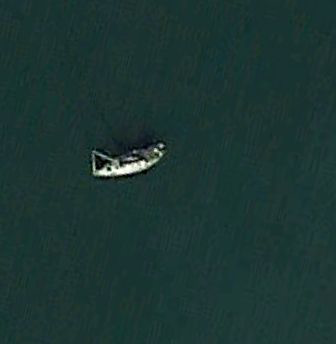boat: (91, 140, 172, 179)
